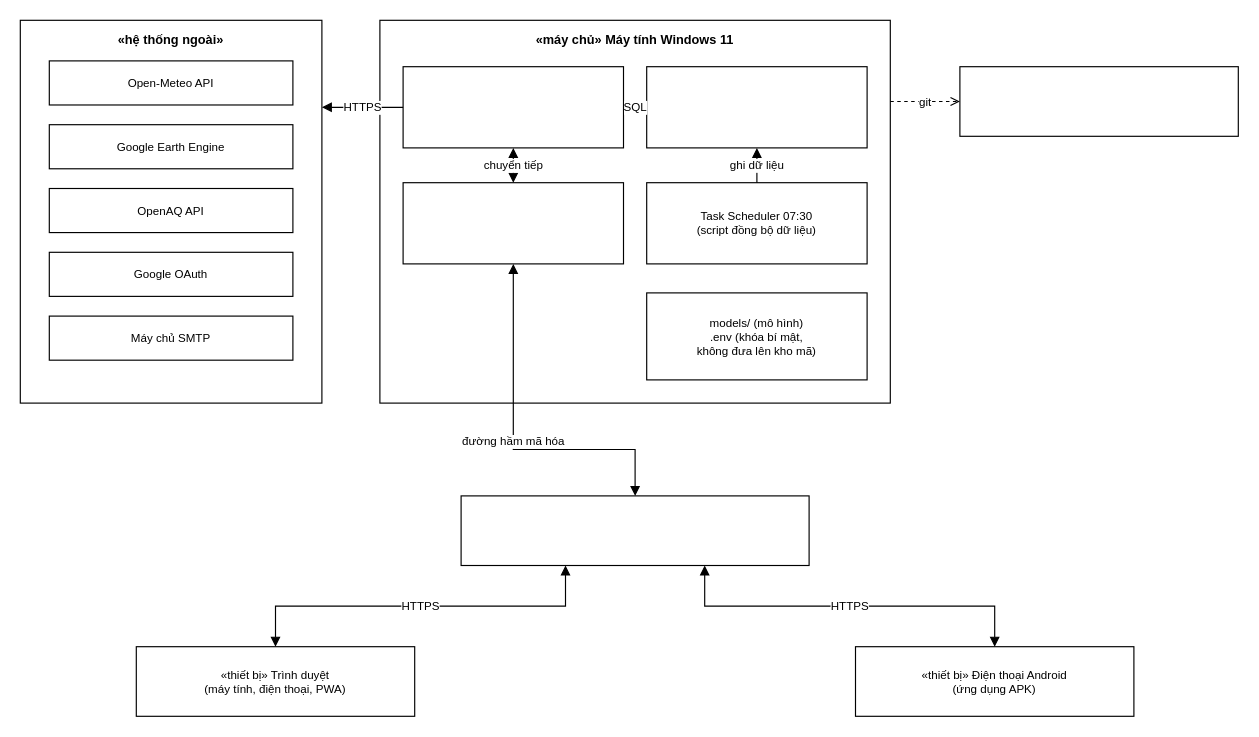
This 1259x737 diagram has some shape labels left out. The shapes that lost their labels are listed below. From the top down, each one's centre as x and y in pixels, then its label:
At (513,107): "Ứng dụng FastAPI (Uvicorn, cổng 8000)".
At (756,107): "PostgreSQL 17 + PostGIS 3.6".
At (1098,101): "«kho mã» GitHub (mã nguồn, bộ dữ liệu CSV)".
At (513,223): "cloudflared (Cloudflare Tunnel)".
At (634,530): "«dịch vụ» Cloudflare HTTPS: https://airhcmcity.asia".
